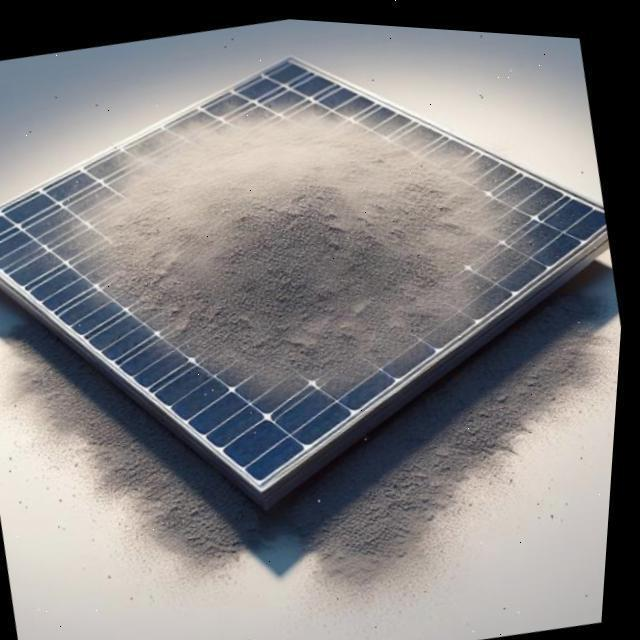Anomaly Solar Panel: (0, 15, 609, 537)
Surface Contaminant: (25, 40, 559, 442)
